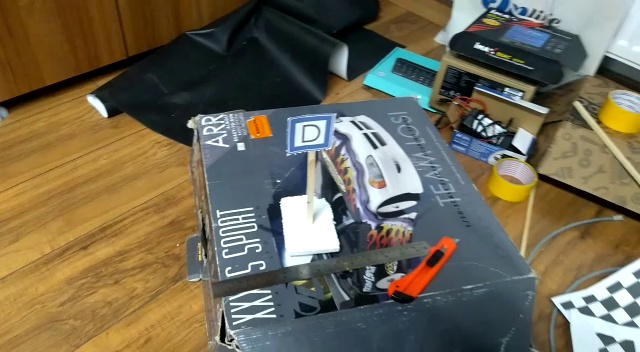durak: (290, 116, 331, 151)
